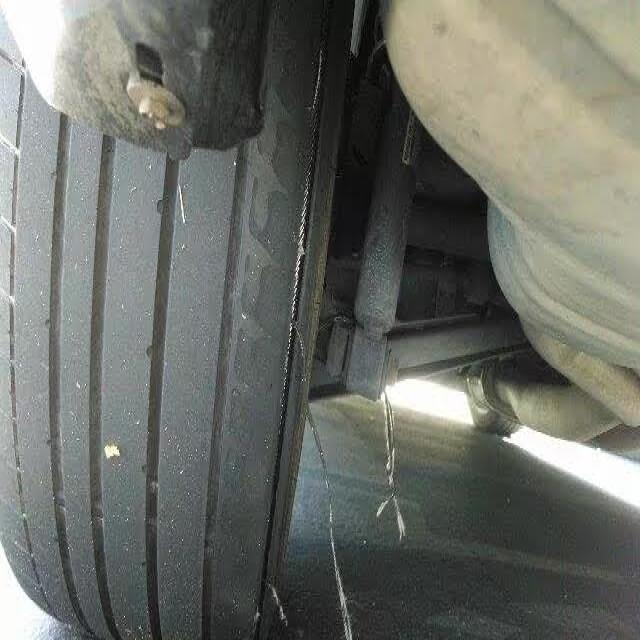Flat spots: (18, 158, 275, 599)
